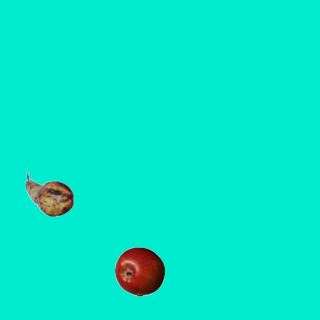Apple Braeburn: (114, 246, 164, 296)
Pear Abate: (24, 169, 74, 219)
